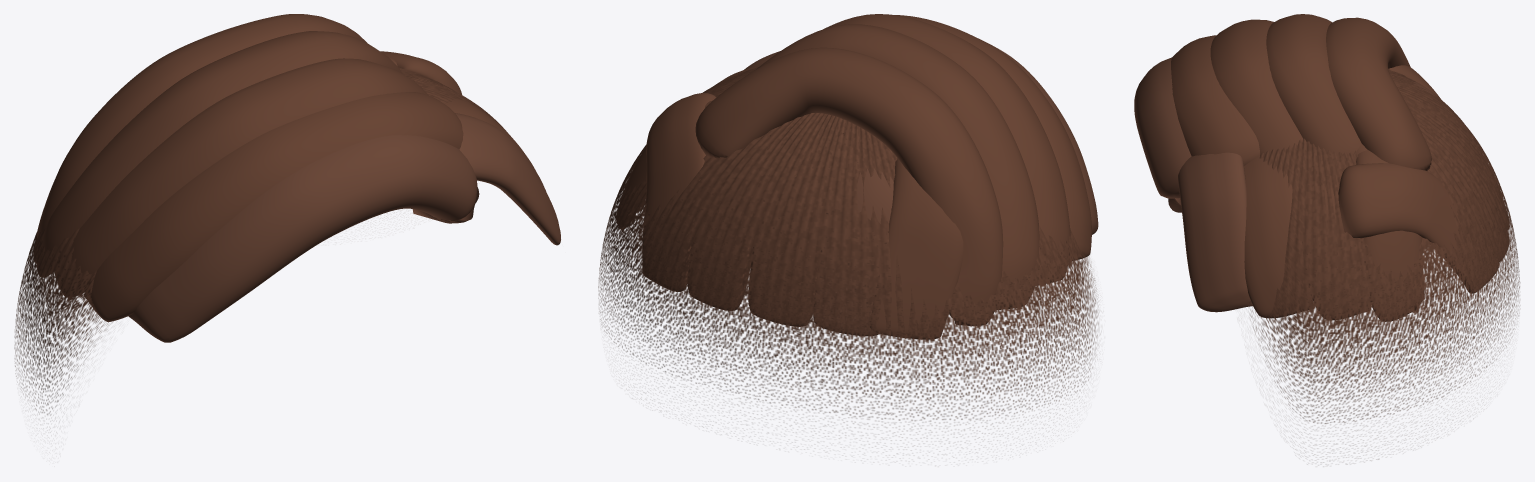
File: hair.glb
The picture shows the model from 3 angles, left to right: view 1: azimuth 30°, elevation 25°; view 2: azimuth 150°, elevation 25°; view 3: azimuth 270°, elevation 25°; orthographic projection. The views are drawn at different scales.
Visible parts, largest first — view 1: 226 hair / Hair252 / sculpted locks, 226 hair / Hair252 / gentle tonal variation, 226 hair / Hair255 / reconstructed coverage A; view 2: 226 hair / Hair255 / reconstructed coverage A, 226 hair / Hair252 / sculpted locks, 226 hair / Hair252 / gentle tonal variation; view 3: 226 hair / Hair252 / sculpted locks, 226 hair / Hair255 / reconstructed coverage A, 226 hair / Hair252 / gentle tonal variation.
Boxes of the visible parts, box(x1,y1,x2,y2) form: 226 hair / Hair252 / sculpted locks: box(34, 14, 546, 322); 226 hair / Hair252 / gentle tonal variation: box(128, 113, 560, 342); 226 hair / Hair255 / reconstructed coverage A: box(14, 67, 507, 415); 226 hair / Hair255 / reconstructed coverage A: box(598, 67, 1098, 437); 226 hair / Hair252 / sculpted locks: box(616, 14, 1091, 339); 226 hair / Hair252 / gentle tonal variation: box(744, 42, 1098, 336); 226 hair / Hair252 / sculpted locks: box(1171, 14, 1509, 321); 226 hair / Hair255 / reconstructed coverage A: box(1248, 69, 1520, 462); 226 hair / Hair252 / gentle tonal variation: box(1134, 57, 1499, 312).
Size of the model in its own units: 0.9709 by 0.6944 by 0.7432.
Materials: 3 (1 with a texture image).
